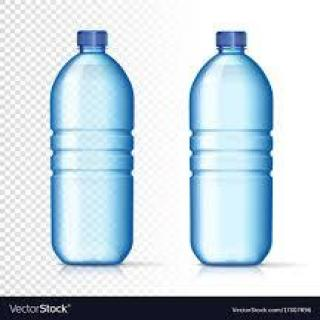Plastic-bottle: (186, 28, 280, 269), (47, 27, 140, 268)
